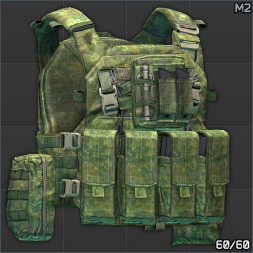ANA Tactical M2 armored rig: (0, 0, 253, 253)
